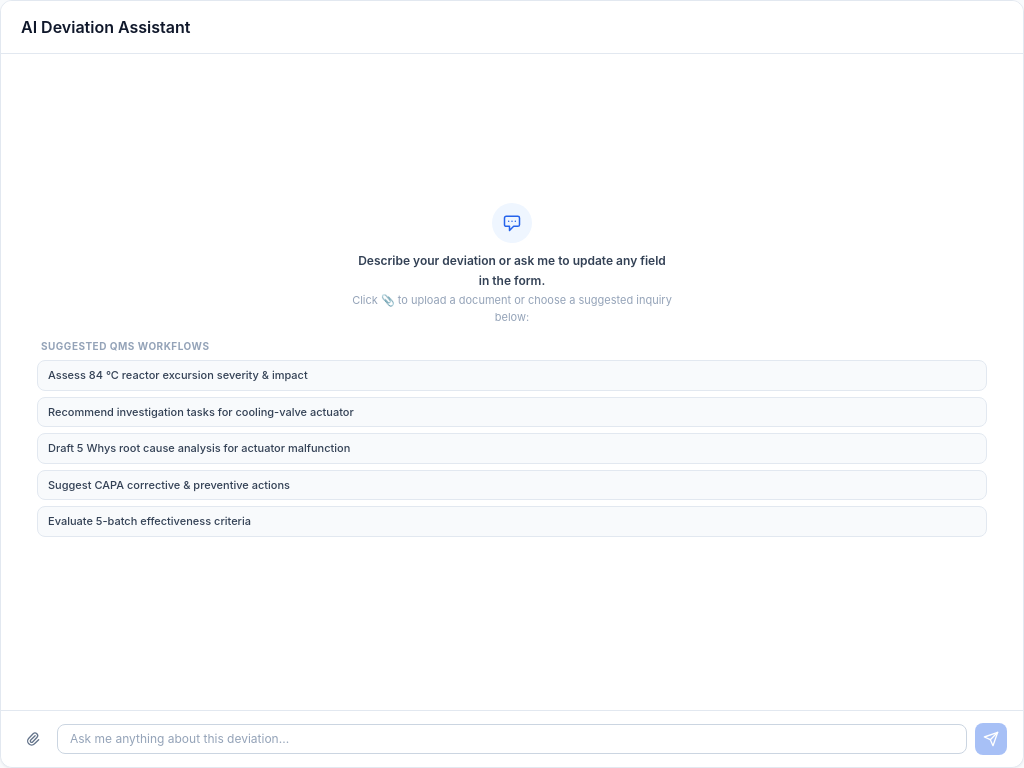
Scenario: AiAssistantPanel - AI Deviation Assistant › 3. natural-language form update: updates batch and title simultaneously
This screenshot has width=1024, height=768.
(page scrolled)
Type "Change the batch to LOT-2026-051 and change the title to Granulation impeller speed exceeded the approved range." into the field with placeholder "Ask me anything about this deviation...". click: (512, 739)
box: [57, 724, 967, 754]
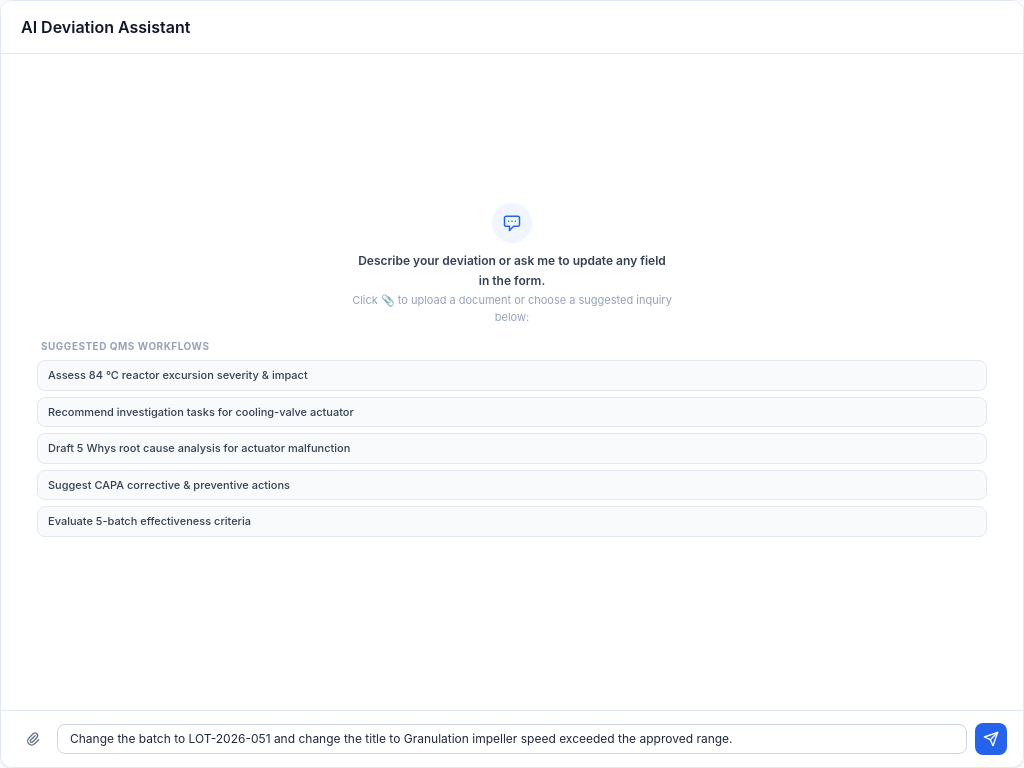
Click the button named "Send message". click: (991, 739)
box: [975, 723, 1007, 755]
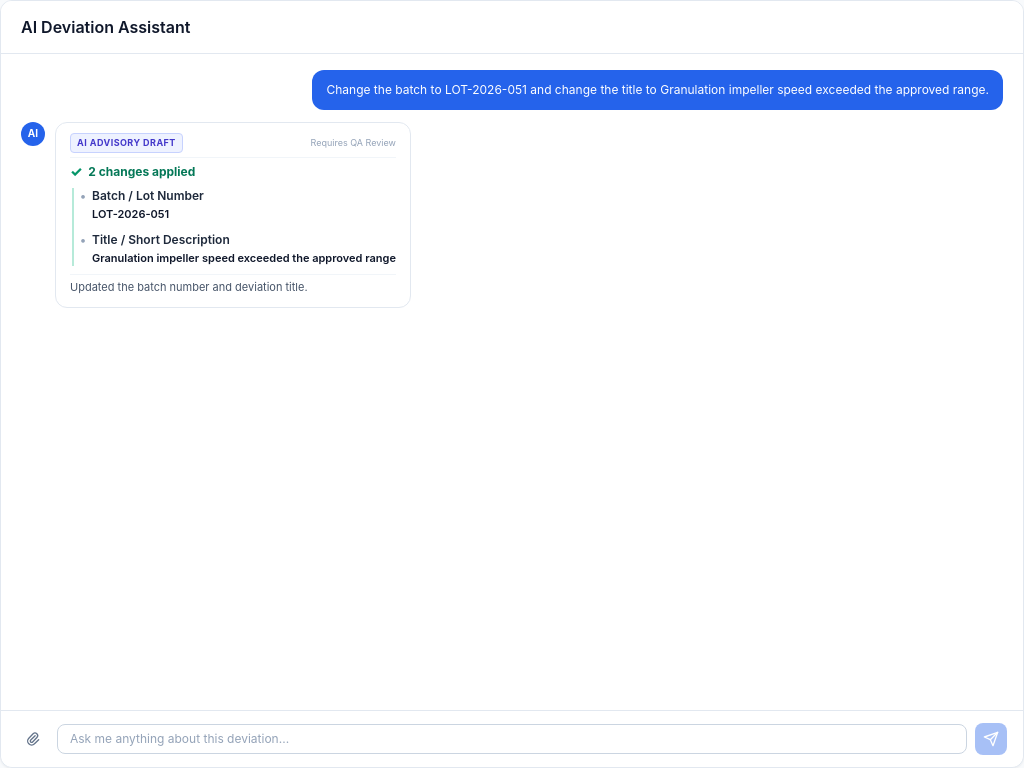
Check: the text "Updated the batch number and deviation title." is shown, box [70, 274, 396, 297]
Check: the text "LOT-2026-051" is shown, box [92, 207, 169, 221]
Check: the text "Granulation impeller speed exceeded the approved range" is shown, box [92, 251, 396, 265]
